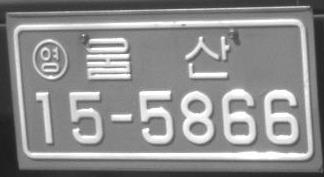-: (109, 112, 134, 124)
1: (29, 91, 61, 144)
5: (137, 89, 175, 146), (66, 90, 103, 144)
6: (262, 88, 300, 145), (220, 87, 257, 145)
8: (180, 89, 216, 145)
영: (32, 38, 68, 80)
울산_D: (85, 35, 230, 80)
